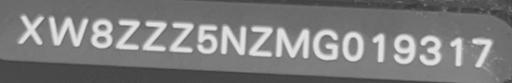letter: (46, 12, 90, 49), (274, 24, 310, 61), (17, 11, 45, 48), (141, 18, 169, 55), (311, 24, 339, 61), (218, 21, 246, 56), (390, 30, 416, 67), (416, 32, 442, 69), (168, 19, 194, 54), (248, 24, 274, 59), (340, 29, 366, 64), (114, 17, 140, 50), (470, 34, 494, 69), (195, 22, 219, 55), (89, 18, 115, 47), (445, 34, 465, 69), (371, 30, 387, 65)
